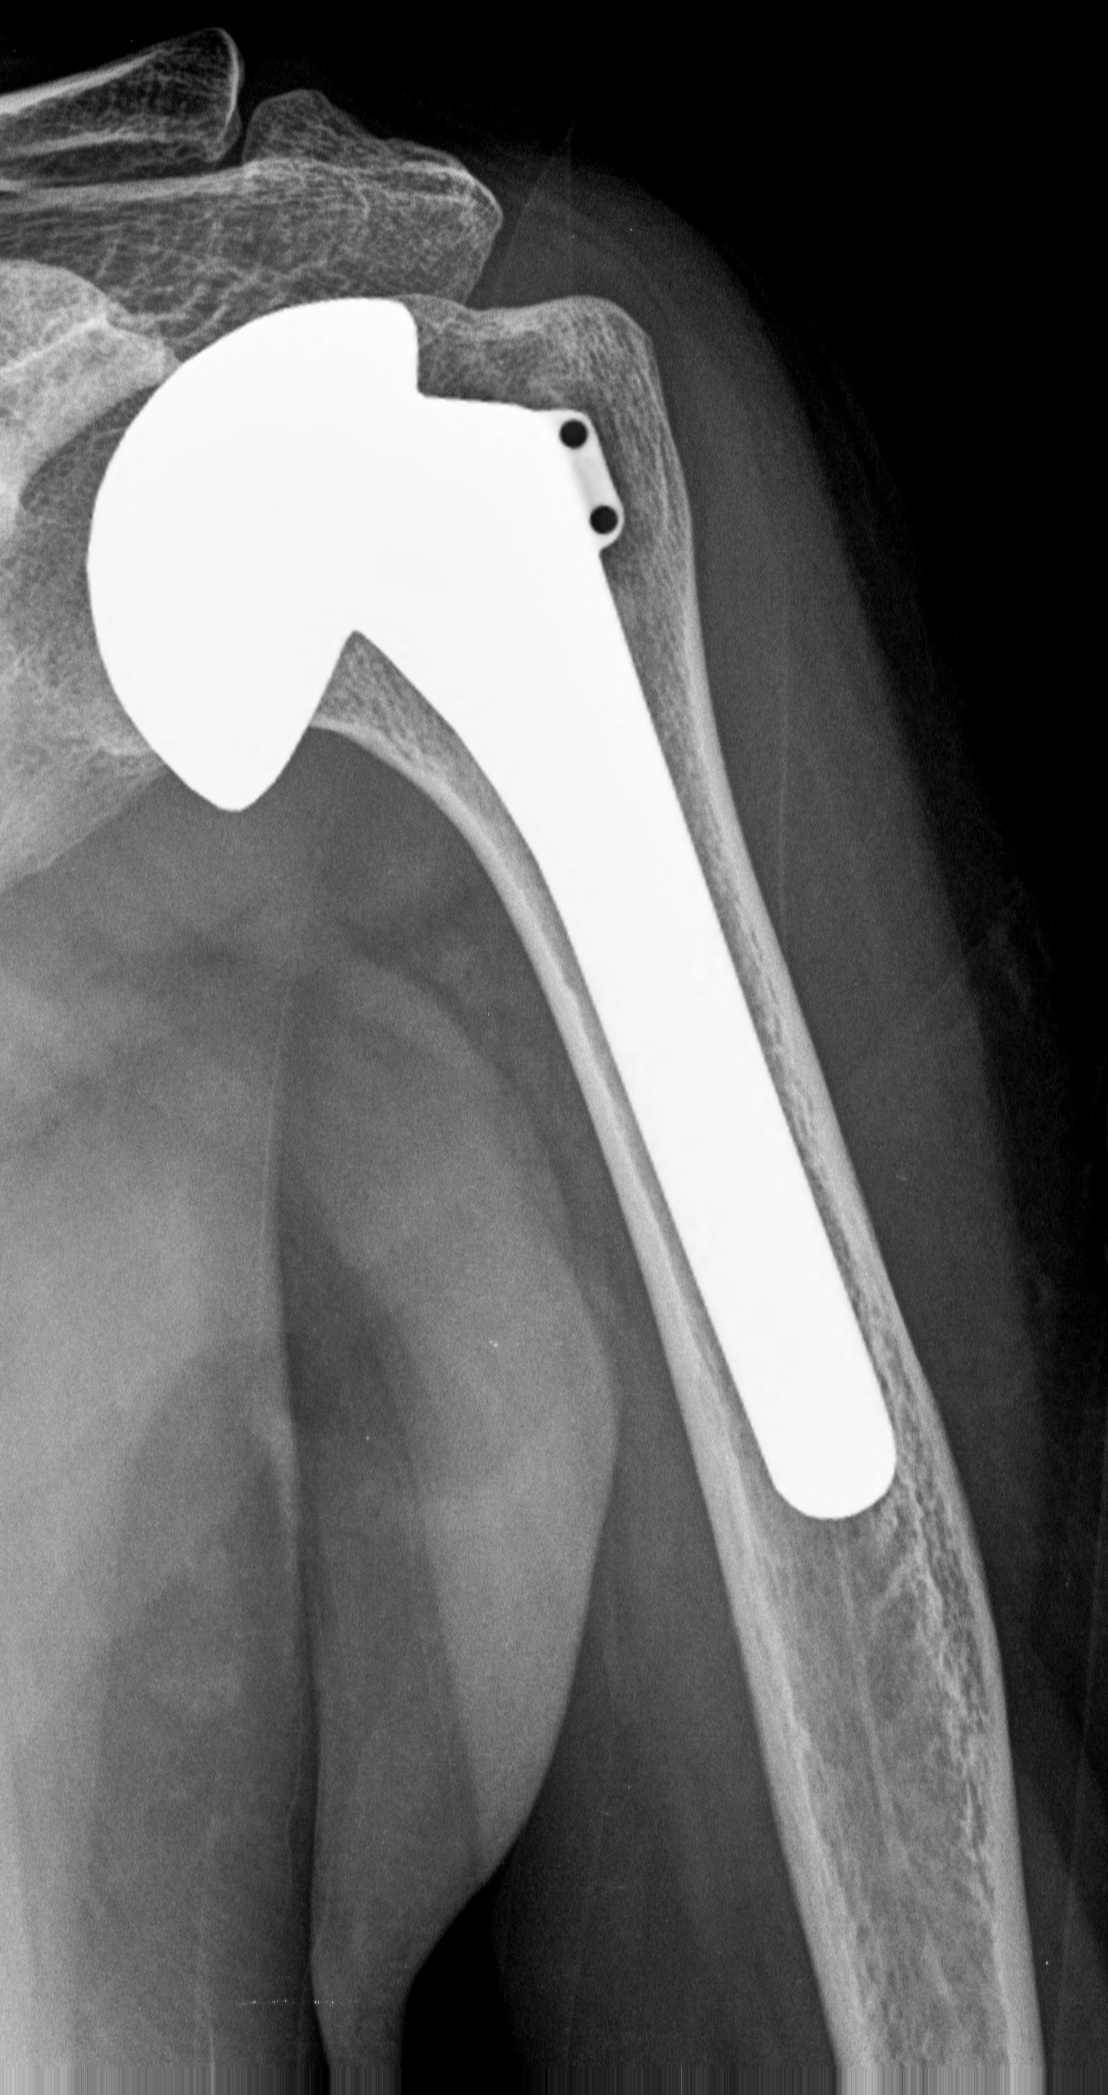Shoulder - AequalisPressfit - Tornier: (78, 277, 632, 842)
